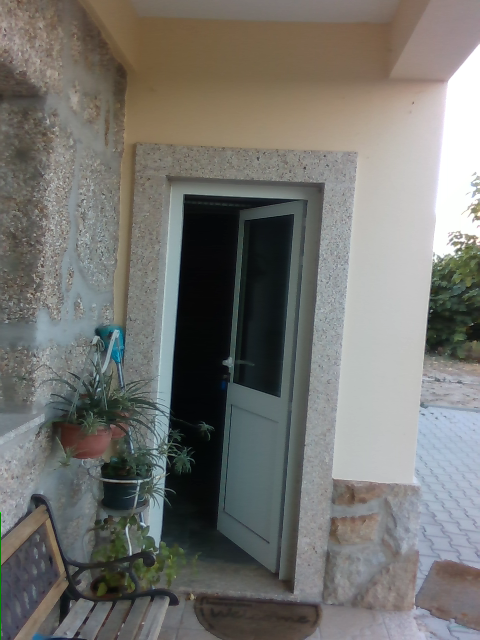semi: (144, 180, 321, 582)
